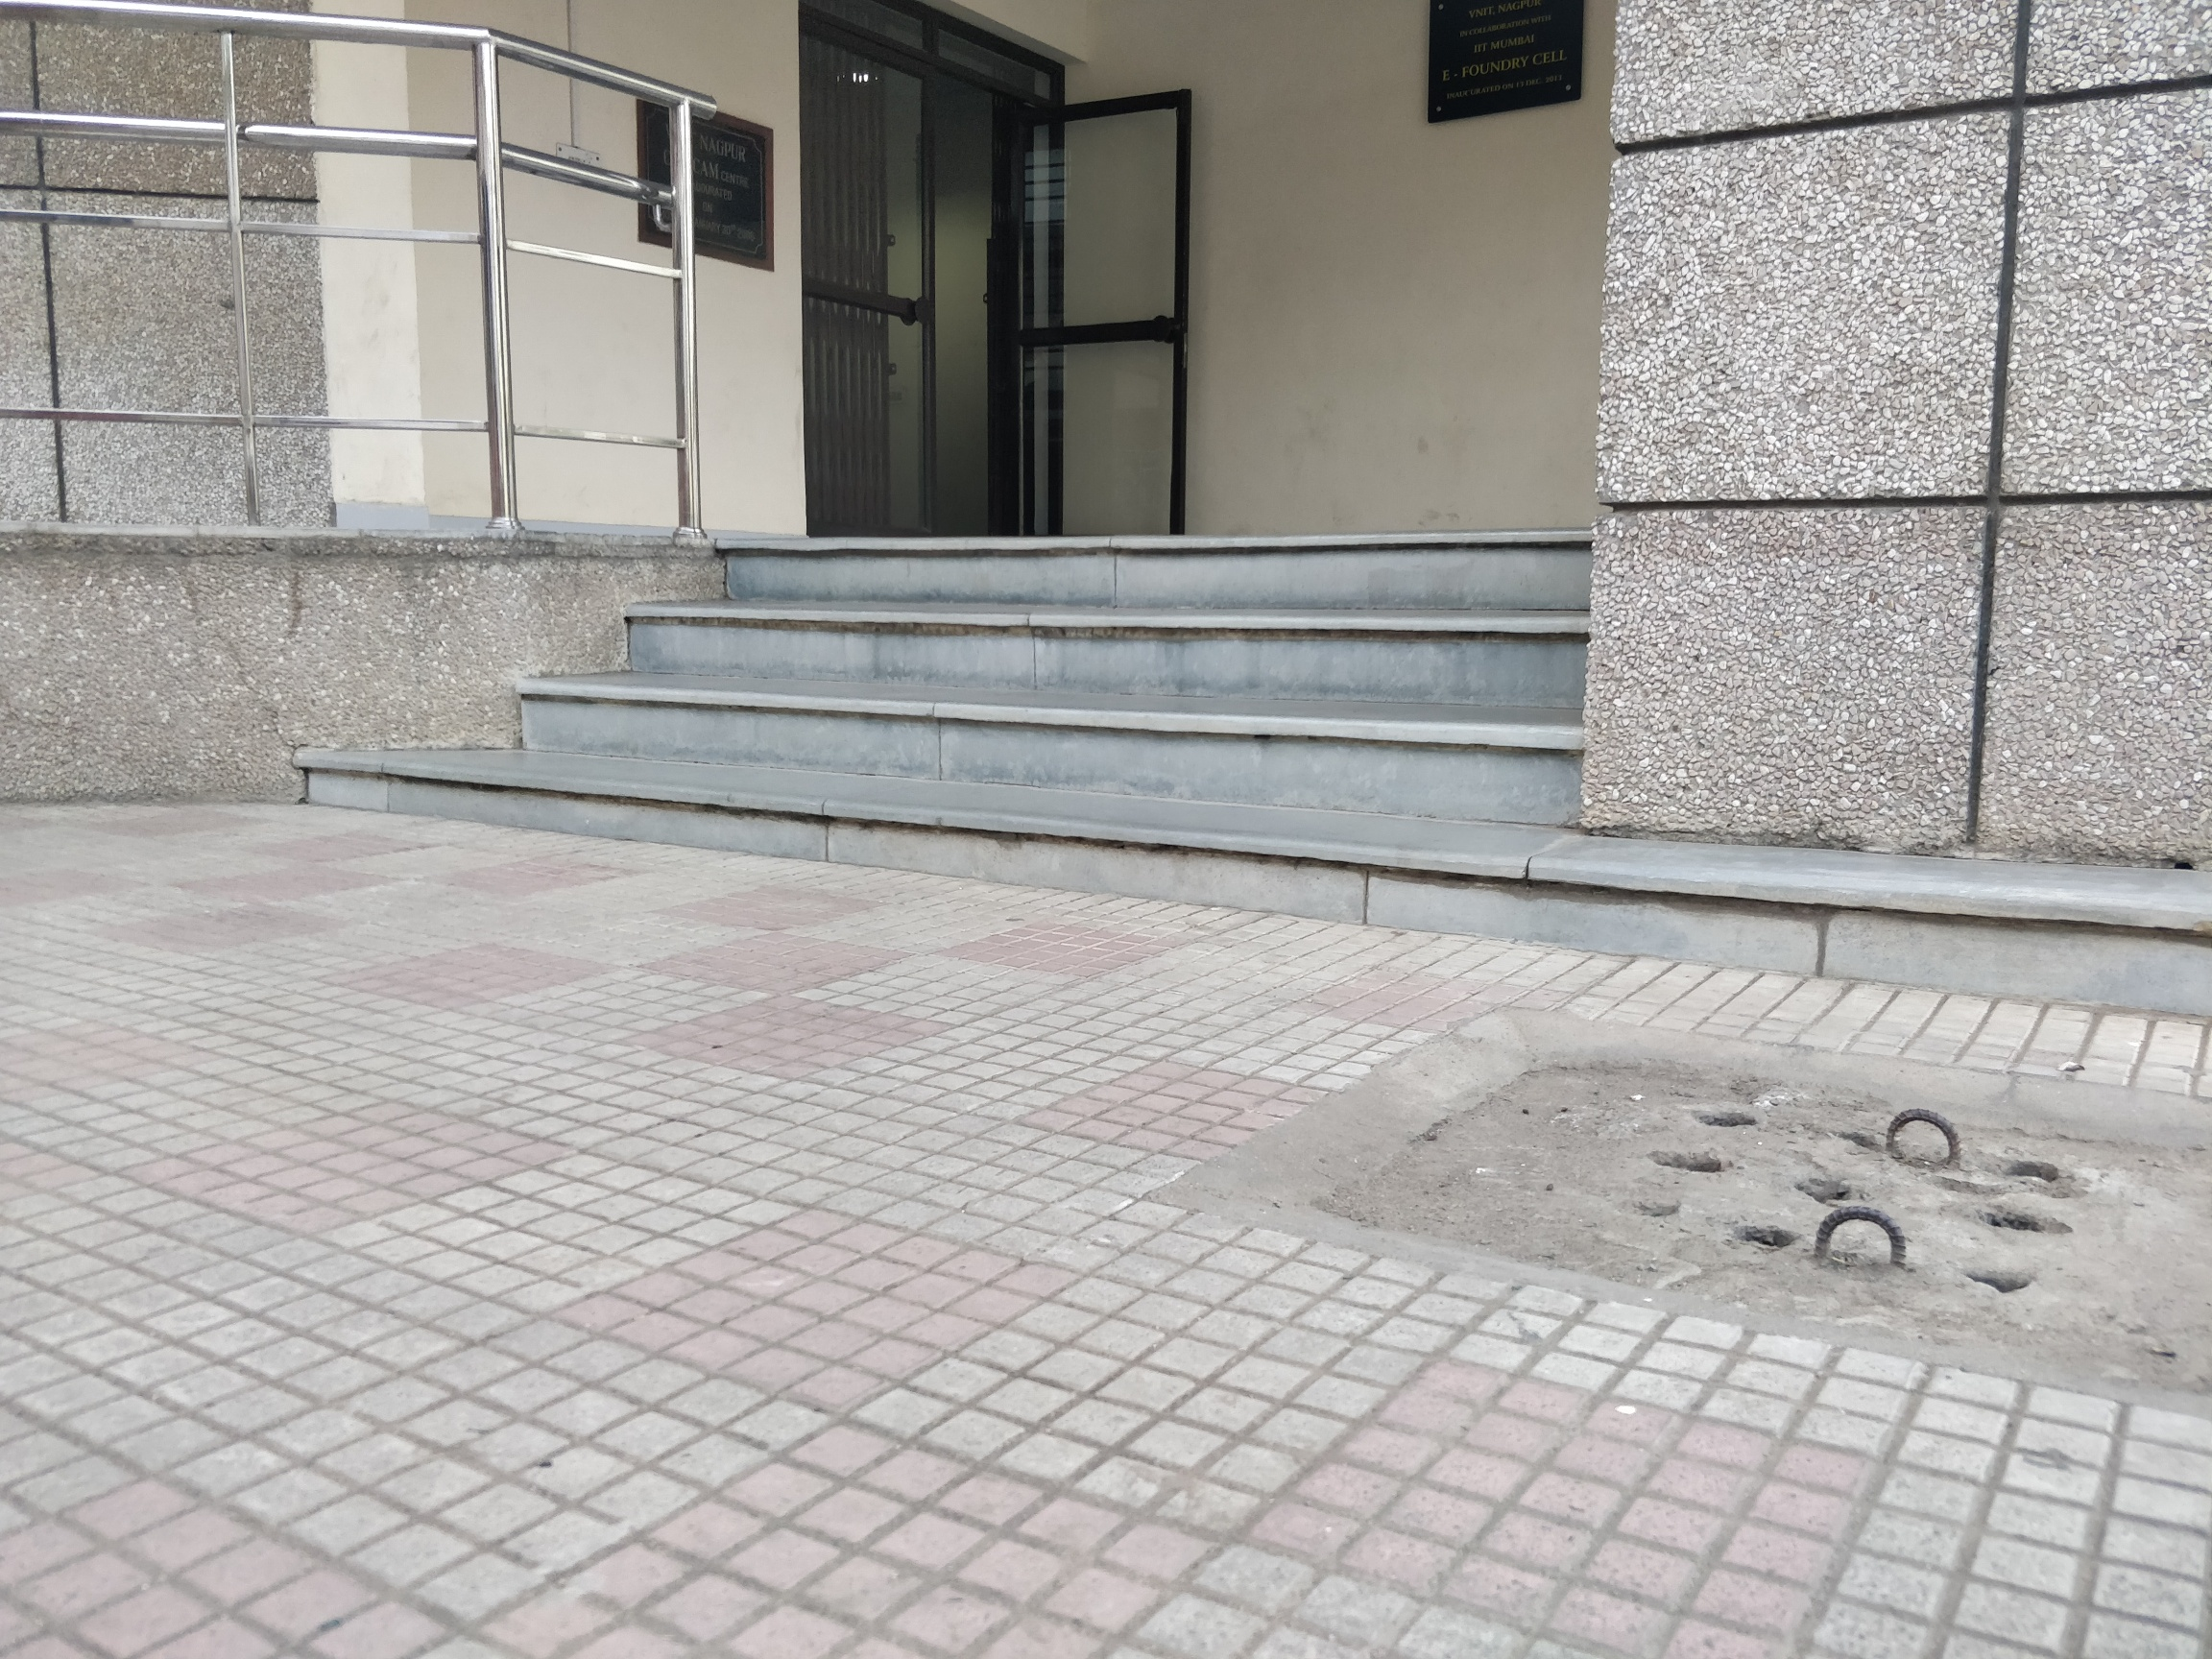stairs_up: (444, 521, 1611, 901)
